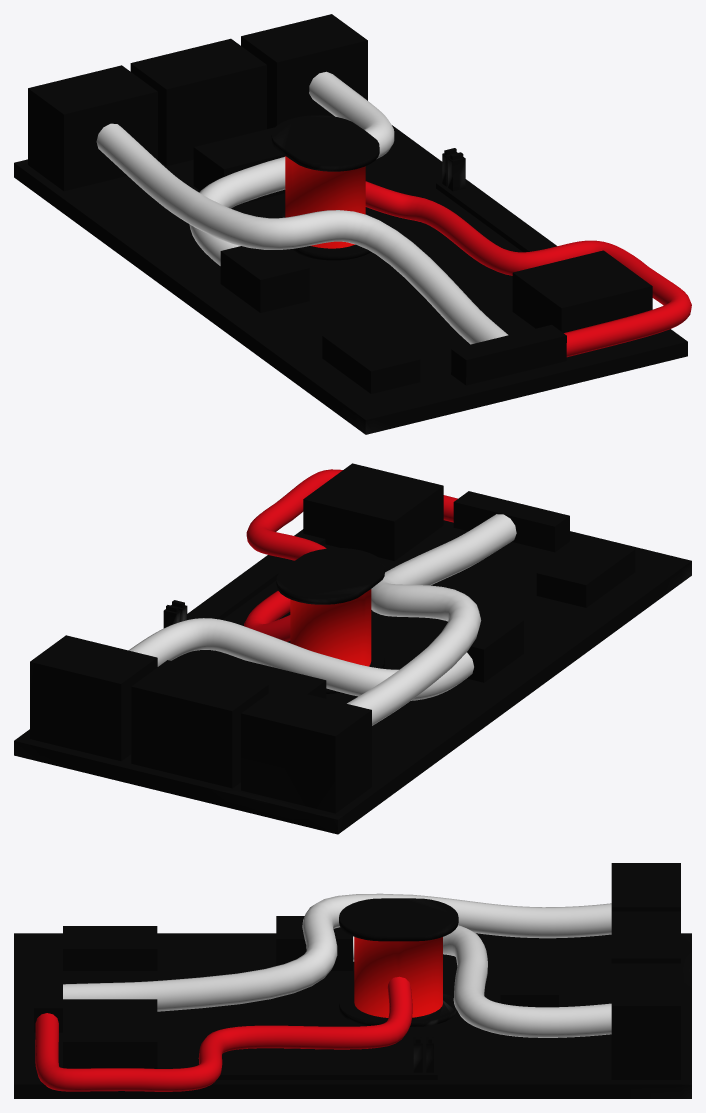
The model's file is hardwaremod_11.fbx.
3 views of the same model, one above another, from view 1: azimuth 30°, elevation 25°; view 2: azimuth 150°, elevation 25°; view 3: azimuth 270°, elevation 25° (orthographic). The views are drawn at different scales.
Parts seen in each view (by area): view 1: Hardware Mod, Tube.001, Tube3, Canister, Tube-2; view 2: Hardware Mod, Tube.001, Canister, Tube-2, Tube3; view 3: Hardware Mod, Tube.001, Canister, Tube3, Tube-2.
Boxes of the visible parts, x1,y1,x2,y2 form: Hardware Mod: (14, 14, 687, 434); Tube.001: (96, 123, 508, 344); Tube3: (365, 181, 691, 357); Canister: (271, 115, 379, 260); Tube-2: (189, 71, 394, 265); Hardware Mod: (14, 463, 691, 834); Tube.001: (347, 514, 516, 725); Canister: (276, 548, 384, 693); Tube-2: (128, 618, 473, 700); Tube3: (244, 469, 457, 641); Hardware Mod: (14, 863, 691, 1098); Tube.001: (63, 893, 611, 1011); Canister: (339, 898, 458, 1026); Tube3: (35, 976, 412, 1091); Tube-2: (353, 925, 611, 1037).
Bounding box in the file's own units: 101 × 29.84 × 174.
